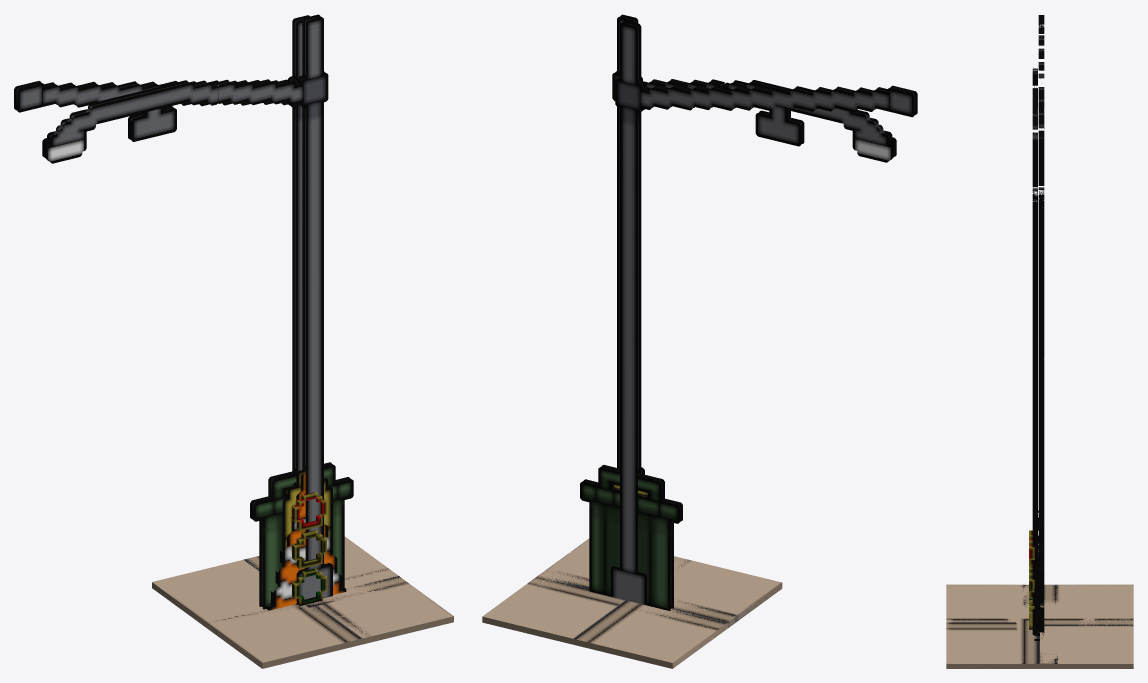
The model's file is StreetPrefabs.fbx.
3 renders of one model, left to right at view 1: azimuth 30°, elevation 25°; view 2: azimuth 150°, elevation 25°; view 3: azimuth 270°, elevation 25°, orthographic. The views are drawn at different scales.
Visible parts, largest first — view 1: Lights, TafficLightPole, Trasj, Plane.009, Plane.007, TrafficLight, Plane.012, Plane.019, Plane.006, Plane.017, Cone, Plane.011 (+5 smaller); view 2: TafficLightPole, Trasj, Plane.010, Plane.007, Lights, Plane.017, Plane.009, Plane.005, Plane.021, Plane.008, Plane.011, Plane.014 (+1 smaller); view 3: Plane.007, TafficLightPole, Plane.012, Lights, Plane.016, Plane.008, Plane.013, Plane.009, Plane.019, TrafficLight, Plane.020, Plane.017 (+3 smaller).
Boxes of the visible parts, left/top/right/bottom form: Lights: left=42, top=14, right=332, bottom=604; TafficLightPole: left=14, top=15, right=309, bottom=473; Trasj: left=250, top=462, right=353, bottom=609; Plane.009: left=168, top=584, right=328, bottom=635; Plane.007: left=220, top=576, right=453, bottom=662; TrafficLight: left=282, top=468, right=332, bottom=605; Plane.012: left=245, top=539, right=432, bottom=627; Plane.019: left=246, top=558, right=445, bottom=628; Plane.006: left=262, top=594, right=453, bottom=668; Plane.017: left=153, top=539, right=390, bottom=612; Cone: left=266, top=466, right=346, bottom=610; Plane.011: left=152, top=537, right=372, bottom=617; TafficLightPole: left=610, top=20, right=917, bottom=605; Trasj: left=580, top=465, right=682, bottom=610; Plane.010: left=482, top=578, right=727, bottom=668; Plane.007: left=568, top=557, right=780, bottom=636; Lights: left=612, top=14, right=896, bottom=468; Plane.017: left=491, top=580, right=725, bottom=656; Plane.009: left=482, top=565, right=781, bottom=668; Plane.005: left=489, top=538, right=707, bottom=617; Plane.021: left=542, top=539, right=778, bottom=627; Plane.008: left=573, top=621, right=640, bottom=653; Plane.011: left=482, top=540, right=682, bottom=666; Plane.014: left=616, top=603, right=737, bottom=667; Plane.007: left=996, top=584, right=1133, bottom=663; TafficLightPole: left=1038, top=15, right=1044, bottom=632; Plane.012: left=946, top=622, right=1058, bottom=668; Lights: left=1032, top=67, right=1037, bottom=634; Plane.016: left=946, top=584, right=1057, bottom=622; Plane.008: left=946, top=584, right=1133, bottom=626; Plane.013: left=948, top=610, right=1130, bottom=668; Plane.009: left=946, top=584, right=1133, bottom=649; Plane.019: left=1045, top=647, right=1133, bottom=663; TrafficLight: left=1029, top=518, right=1040, bottom=630; Plane.020: left=1022, top=646, right=1133, bottom=668; Plane.017: left=1044, top=584, right=1097, bottom=623.
Bounding box in the file's own units: 133 × 197 × 66.67.
Materials: 1 (1 with a texture image).
